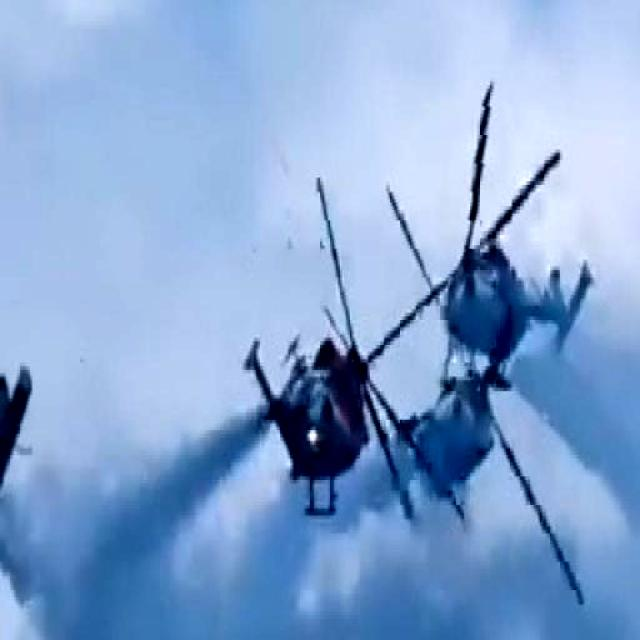drone: (219, 291, 388, 521), (0, 270, 55, 540)
